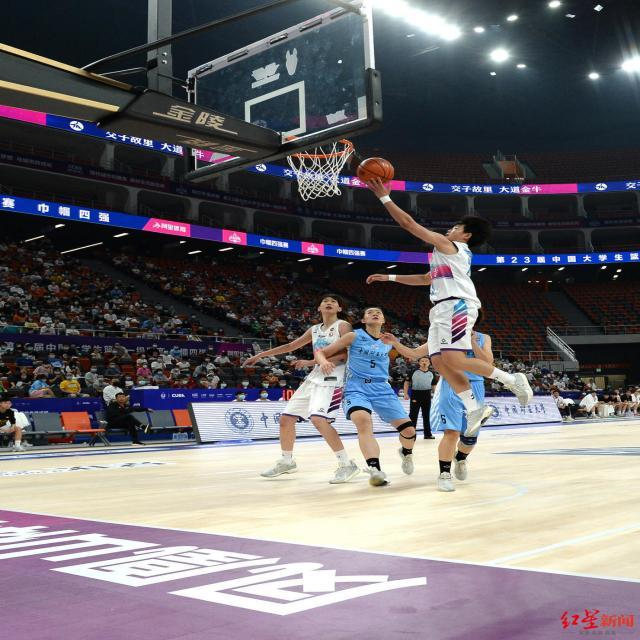rim: (356, 154, 398, 186)
